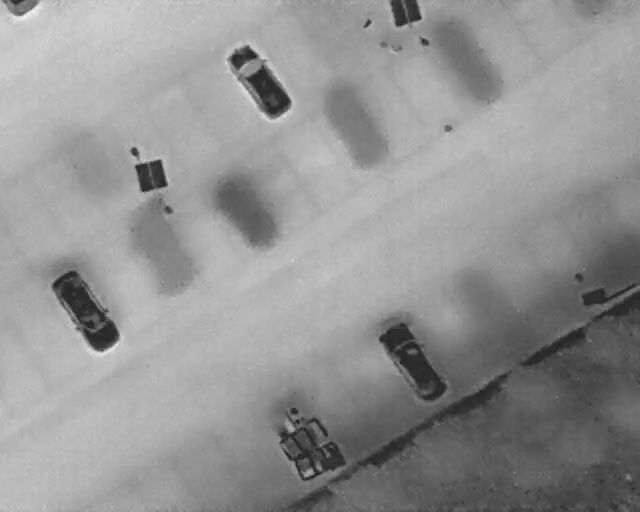Car: (45, 260, 129, 359), (372, 314, 456, 411), (220, 35, 300, 126), (2, 0, 40, 18)
